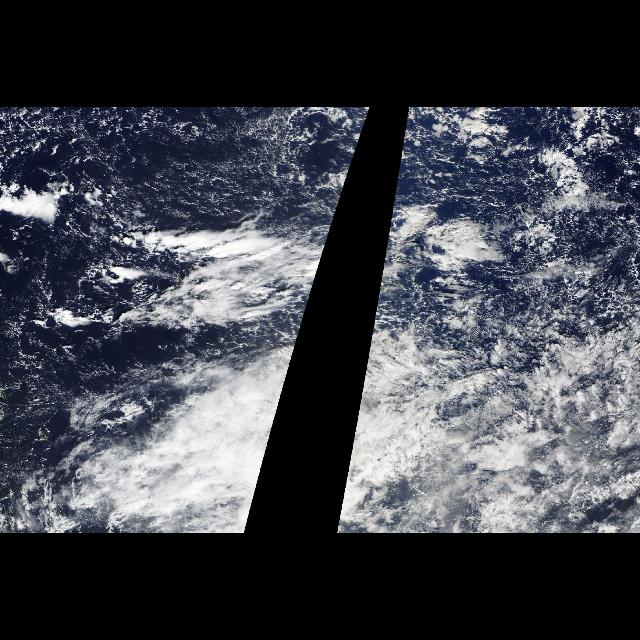Gravel: (417, 130, 635, 324)
Sugar: (112, 112, 308, 222)
